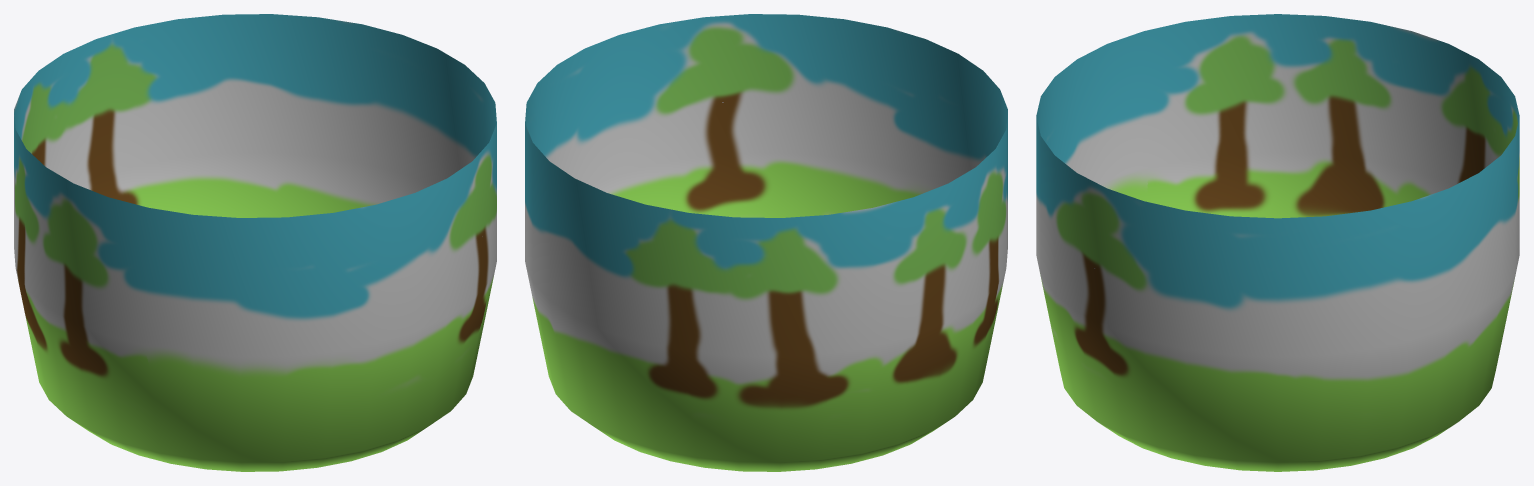
File: battletest temp 2.glb
3 views of the same model, side by side, from view 1: azimuth 30°, elevation 25°; view 2: azimuth 150°, elevation 25°; view 3: azimuth 270°, elevation 25° (orthographic).
Visible parts, largest first — view 1: Circle.001; view 2: Circle.001; view 3: Circle.001.
Boxes of the visible parts, <box> form: Circle.001: <box>14,14,496,471</box>; Circle.001: <box>525,14,1007,471</box>; Circle.001: <box>1036,14,1519,471</box>.
Size of the model in its own units: 292 by 183 by 292.
3 materials, 1 textured.
